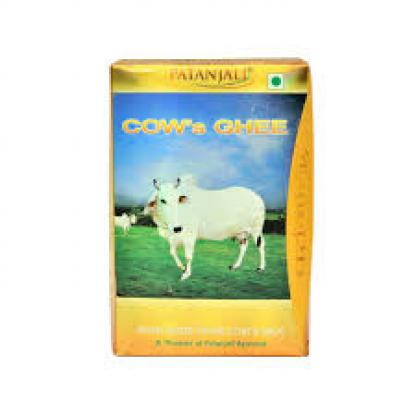CARDBOARD: (107, 57, 311, 357)
